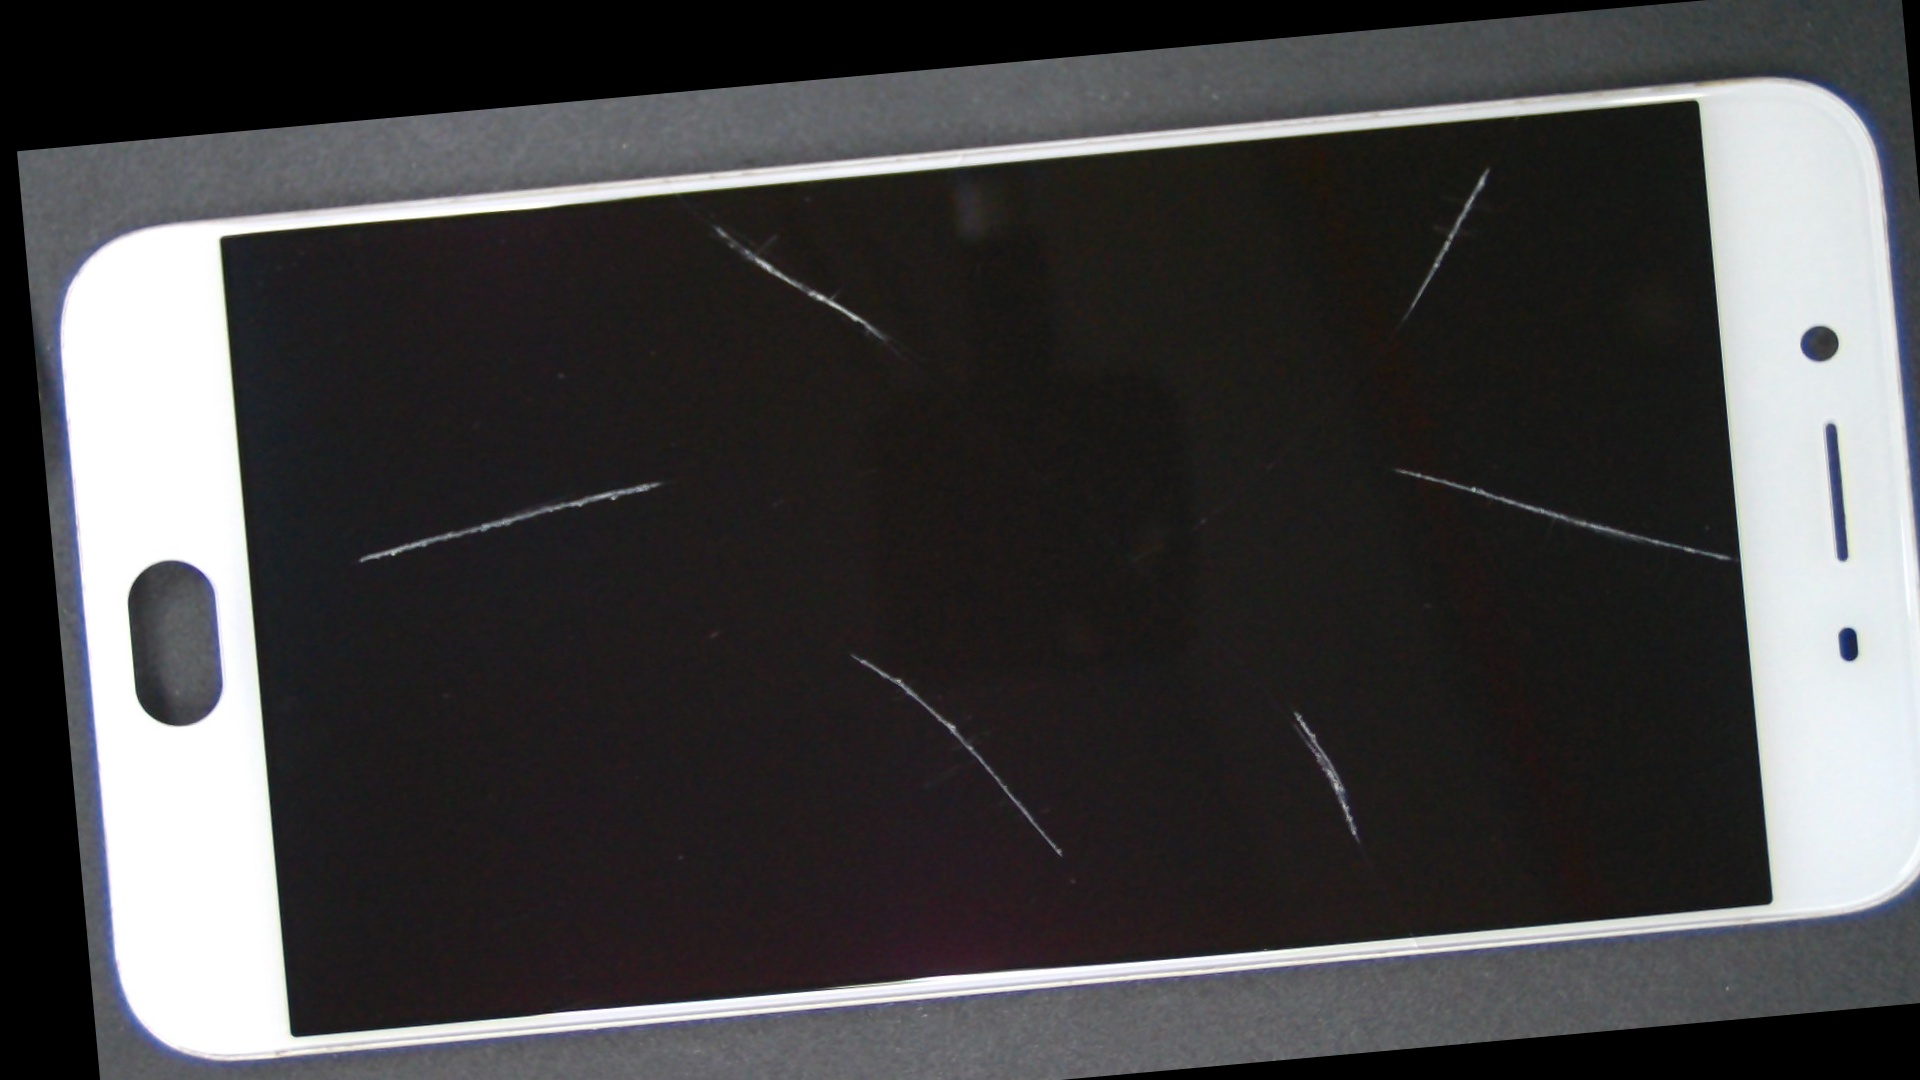oil: (655, 320, 1920, 1080), (707, 199, 1920, 748), (433, 332, 1266, 976), (752, 55, 1920, 306), (335, 262, 968, 700), (364, 127, 1060, 323)
